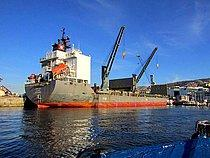Ship: (26, 22, 177, 111)
